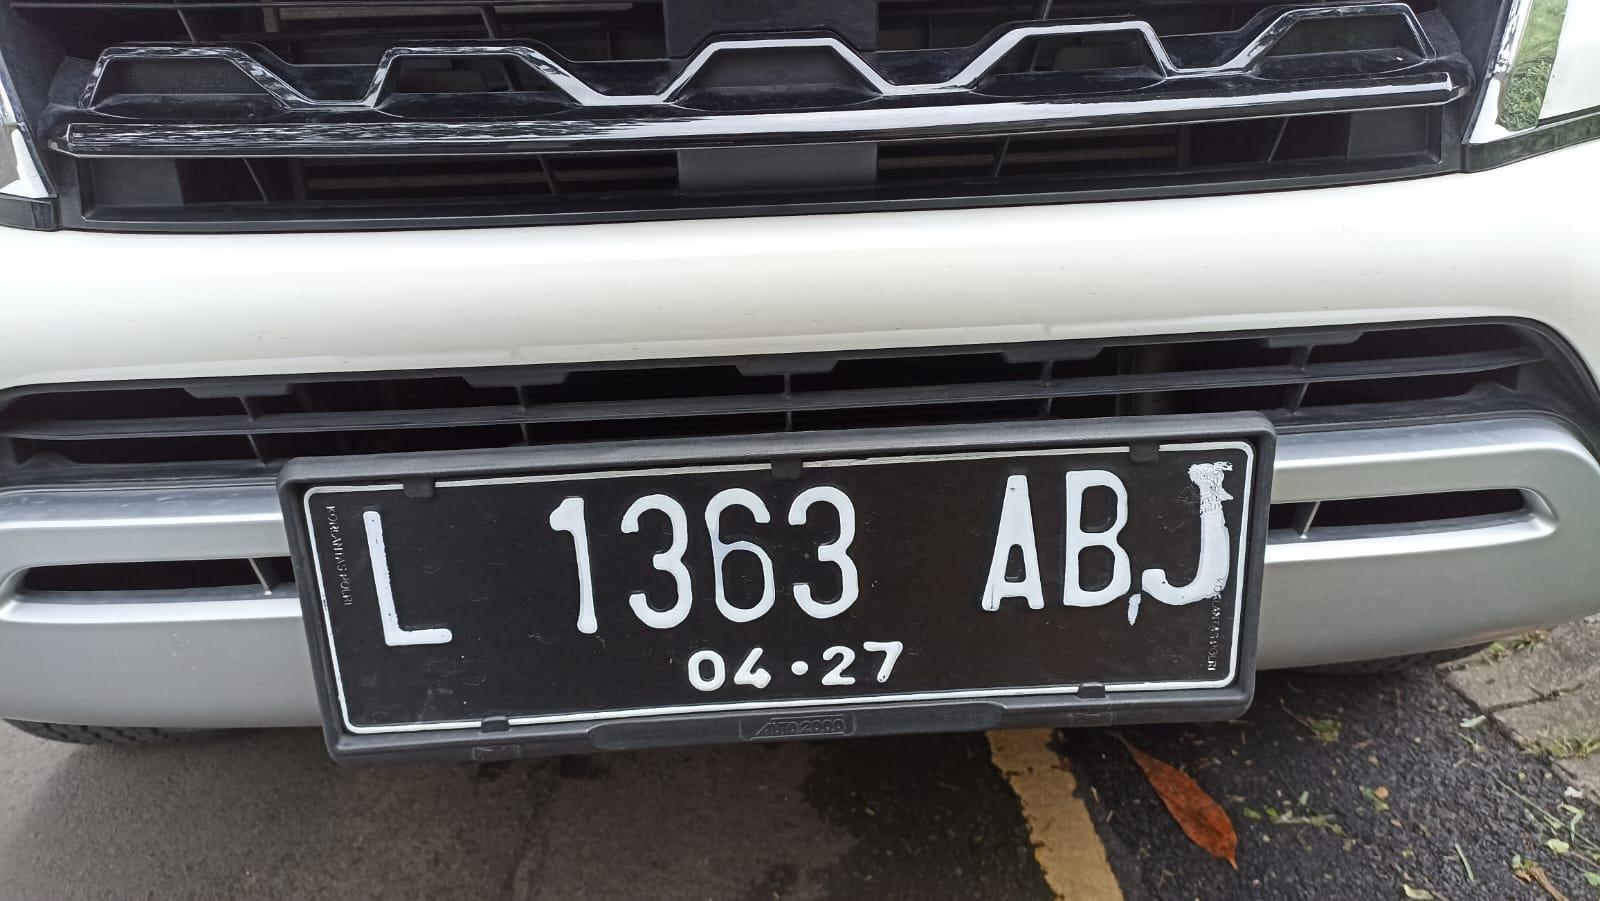plat: (278, 415, 1275, 763)
